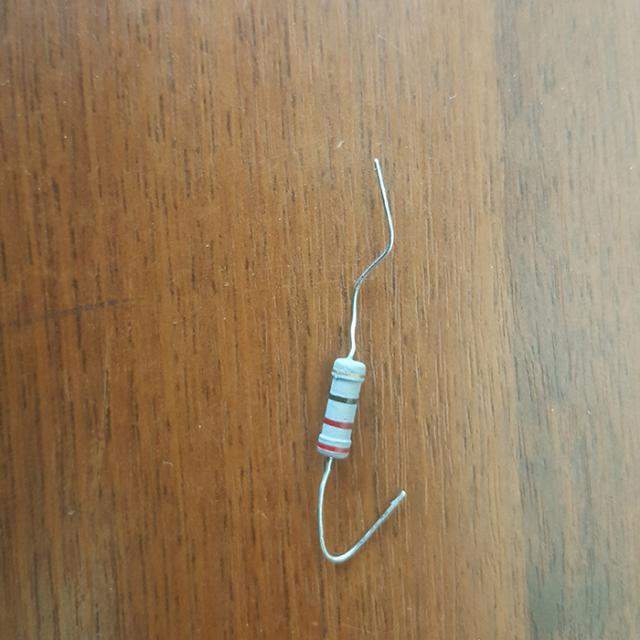brown: (328, 394, 357, 403)
gold: (332, 370, 362, 381)
red: (318, 443, 349, 453), (324, 418, 352, 428)
resistor: (301, 343, 379, 472)
